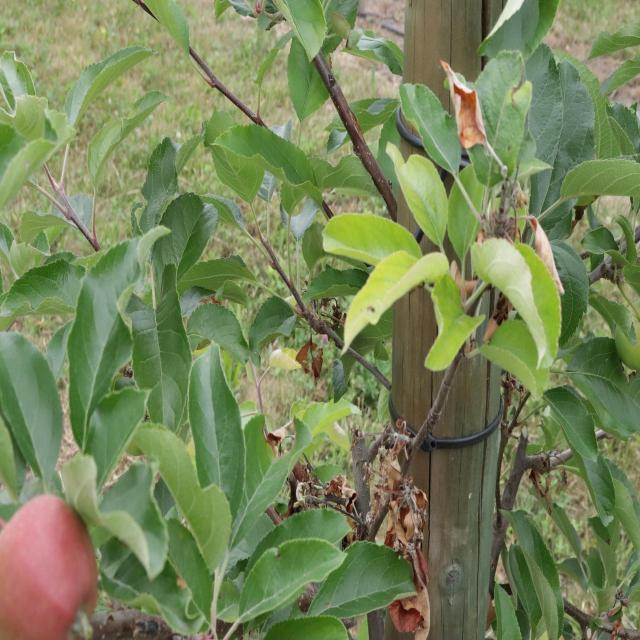-FireBlight-: (436, 49, 501, 158), (374, 437, 422, 547), (294, 464, 356, 510), (400, 551, 432, 638), (522, 206, 552, 284), (294, 322, 320, 368), (266, 419, 288, 459)
